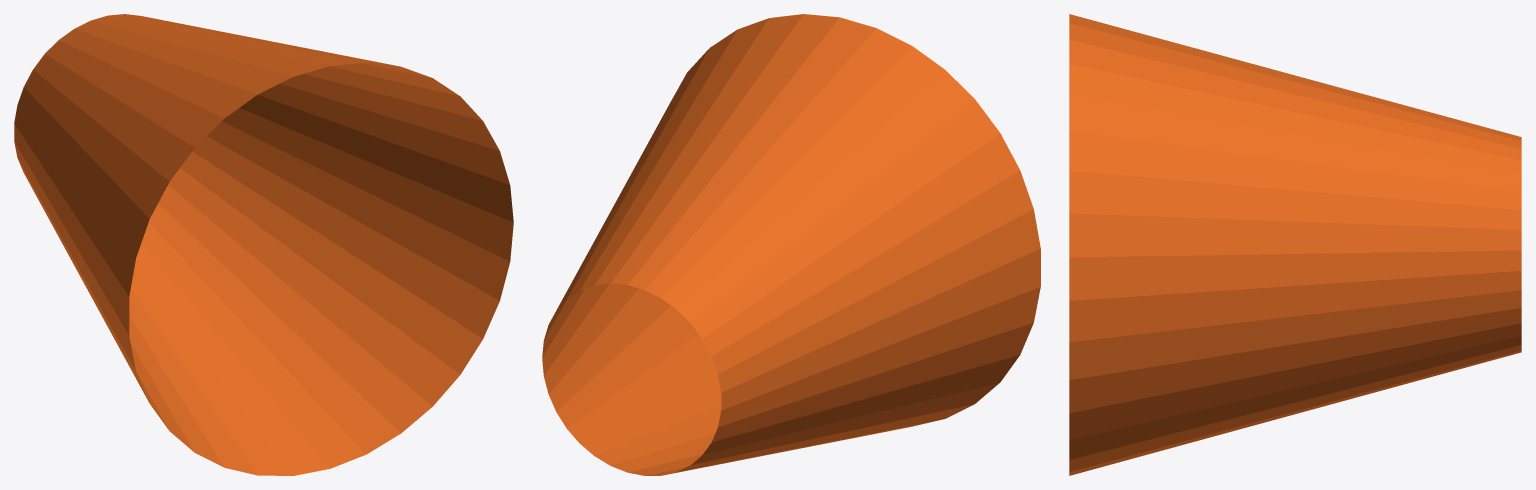
The model's file is flame.dae.
3 renders of one model, left to right at view 1: azimuth 30°, elevation 25°; view 2: azimuth 150°, elevation 25°; view 3: azimuth 270°, elevation 25°, orthographic. The views are drawn at different scales.
Parts seen in each view (by area): view 1: Cone; view 2: Cone; view 3: Cone.
Part boxes in pixels (x1,y1,x2,y2): Cone: [14, 14, 513, 475]; Cone: [542, 14, 1040, 475]; Cone: [1069, 14, 1521, 475].
Bounding box in the file's own units: 1.76 × 1.72 × 1.76.
